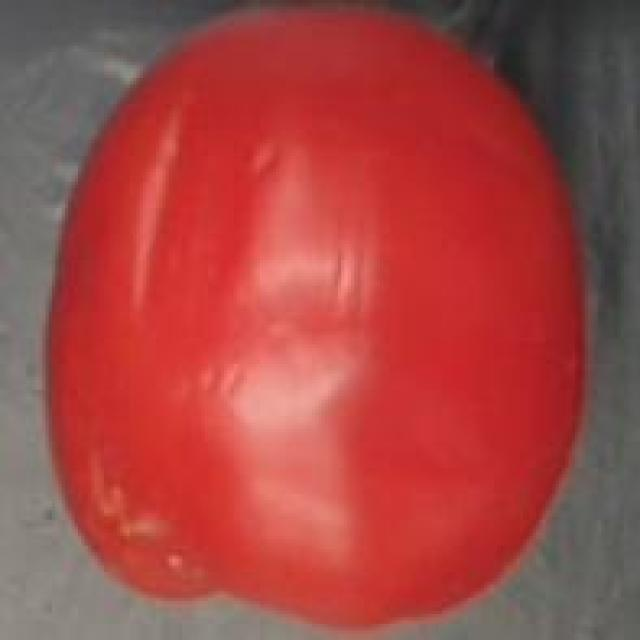overripe tomato: (36, 3, 591, 640)
